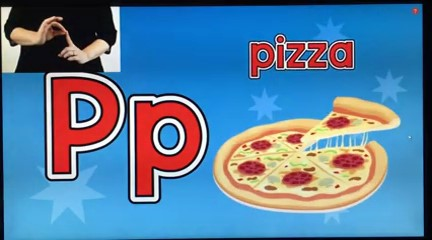P: (36, 12, 90, 69)
